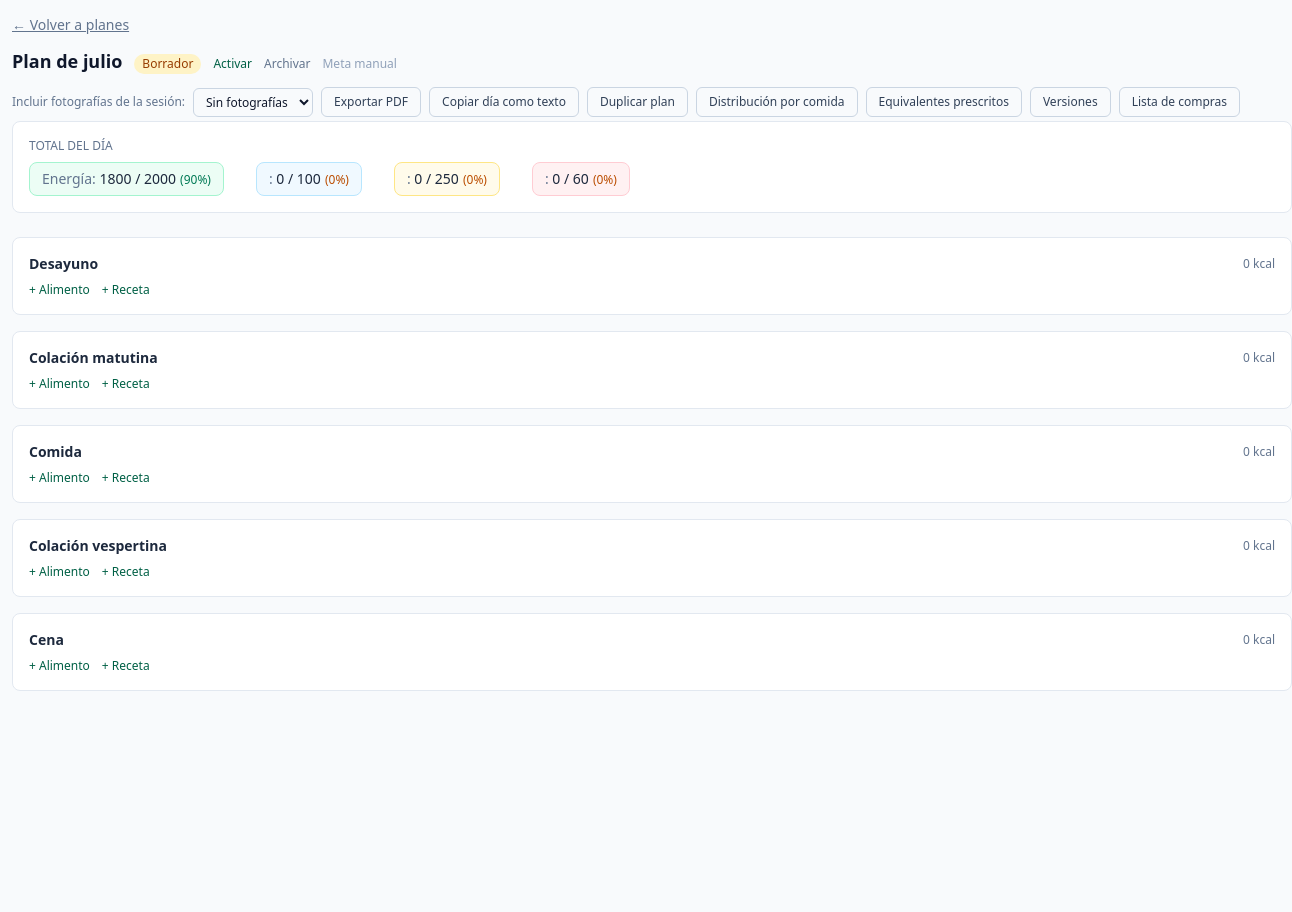
PlanEditor — adding a food › refuses to add until a food and a usable amount are both present
This screenshot has width=1292, height=912.
Click the button "+ Alimento" below "Desayuno": (59, 290) 29,282 -> 90,298
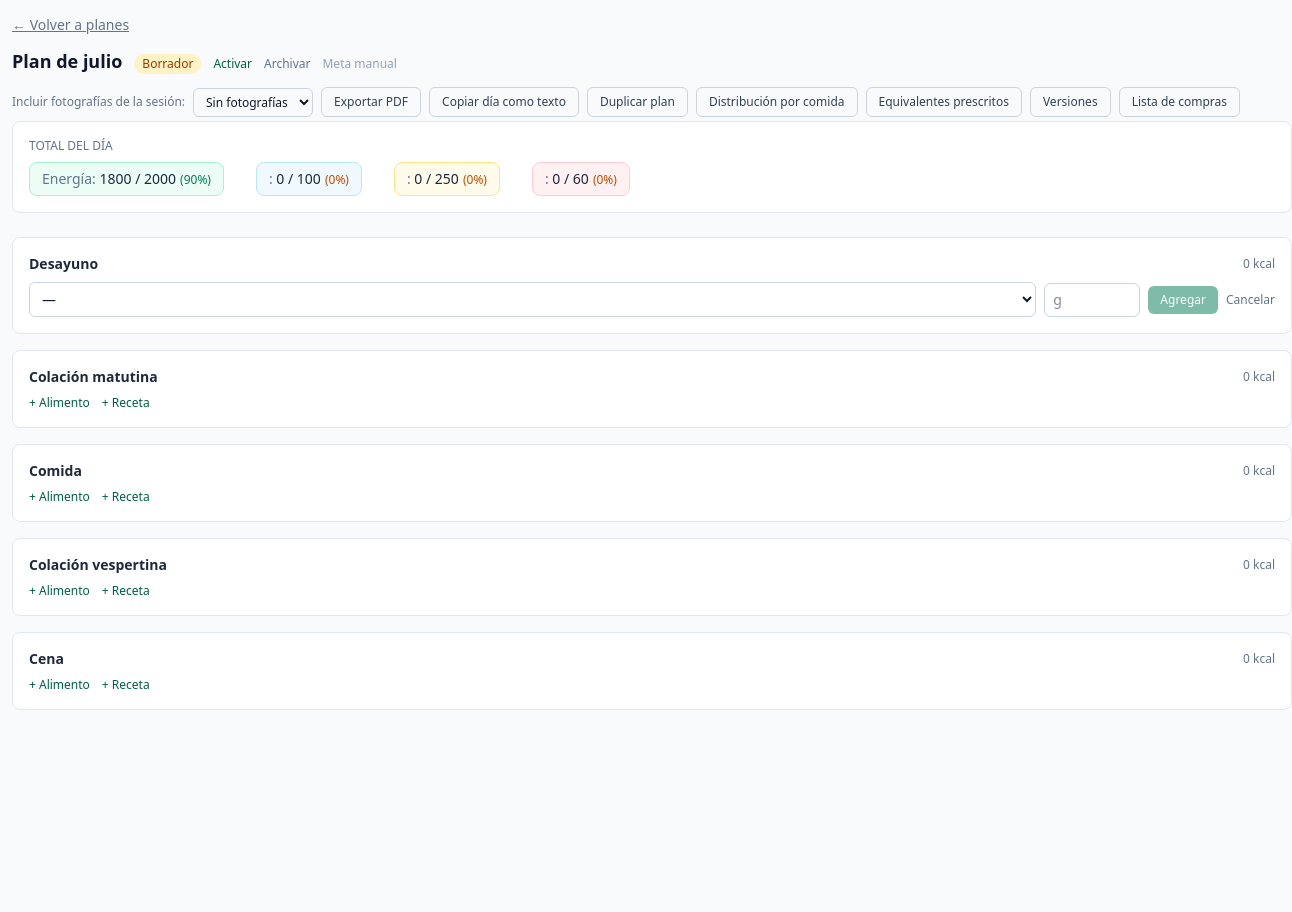
Check: the button "Agregar" is disabled, box 1148,286 -> 1218,314
Select "Tortilla de maíz" in the dropdown named "Alimentos": (533, 300) 29,282 -> 1036,317
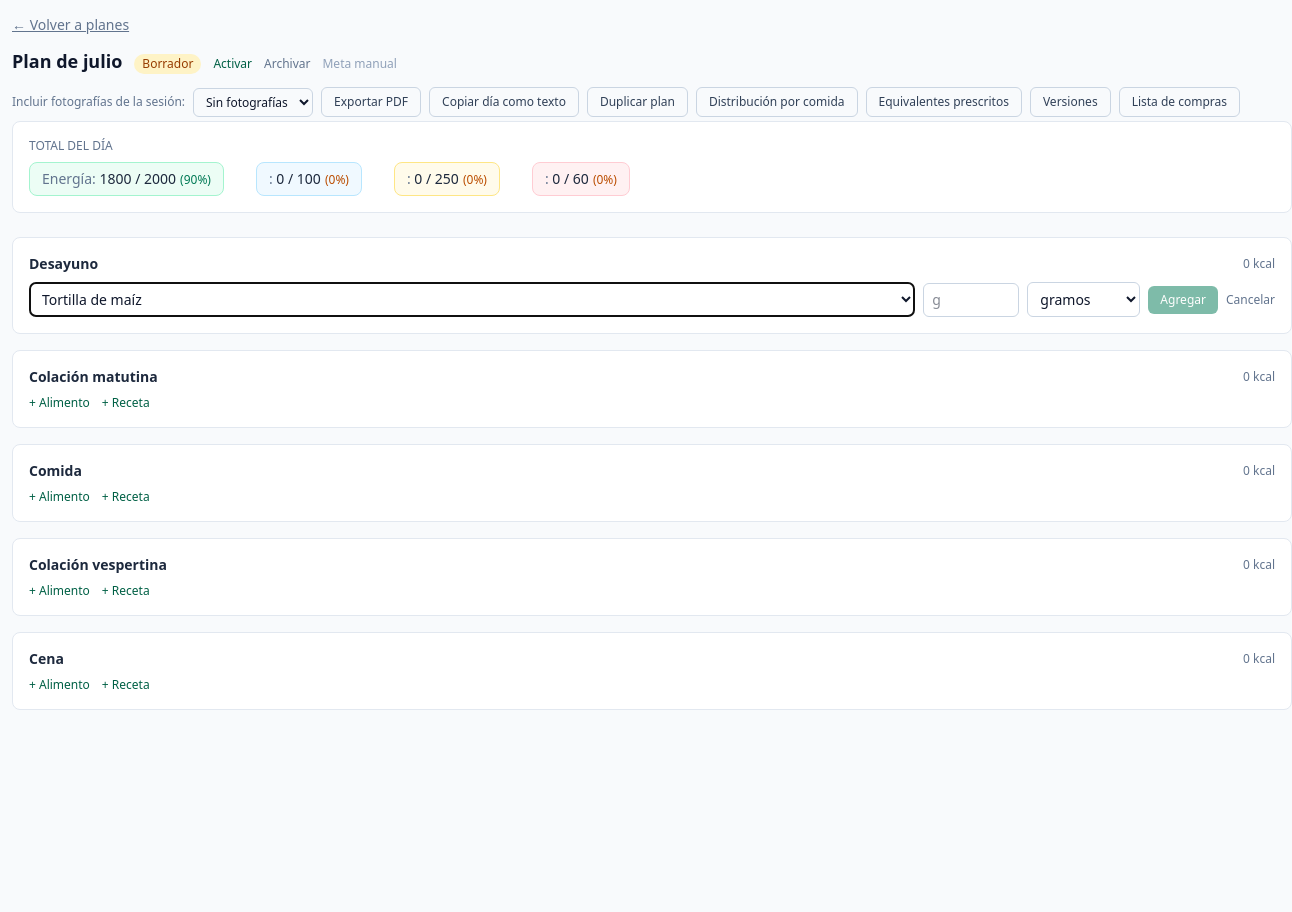
Check: the button "Agregar" is disabled, box 1148,286 -> 1218,314
In the field labelled "g": (971, 300) 923,282 -> 1019,316, type "mucho"
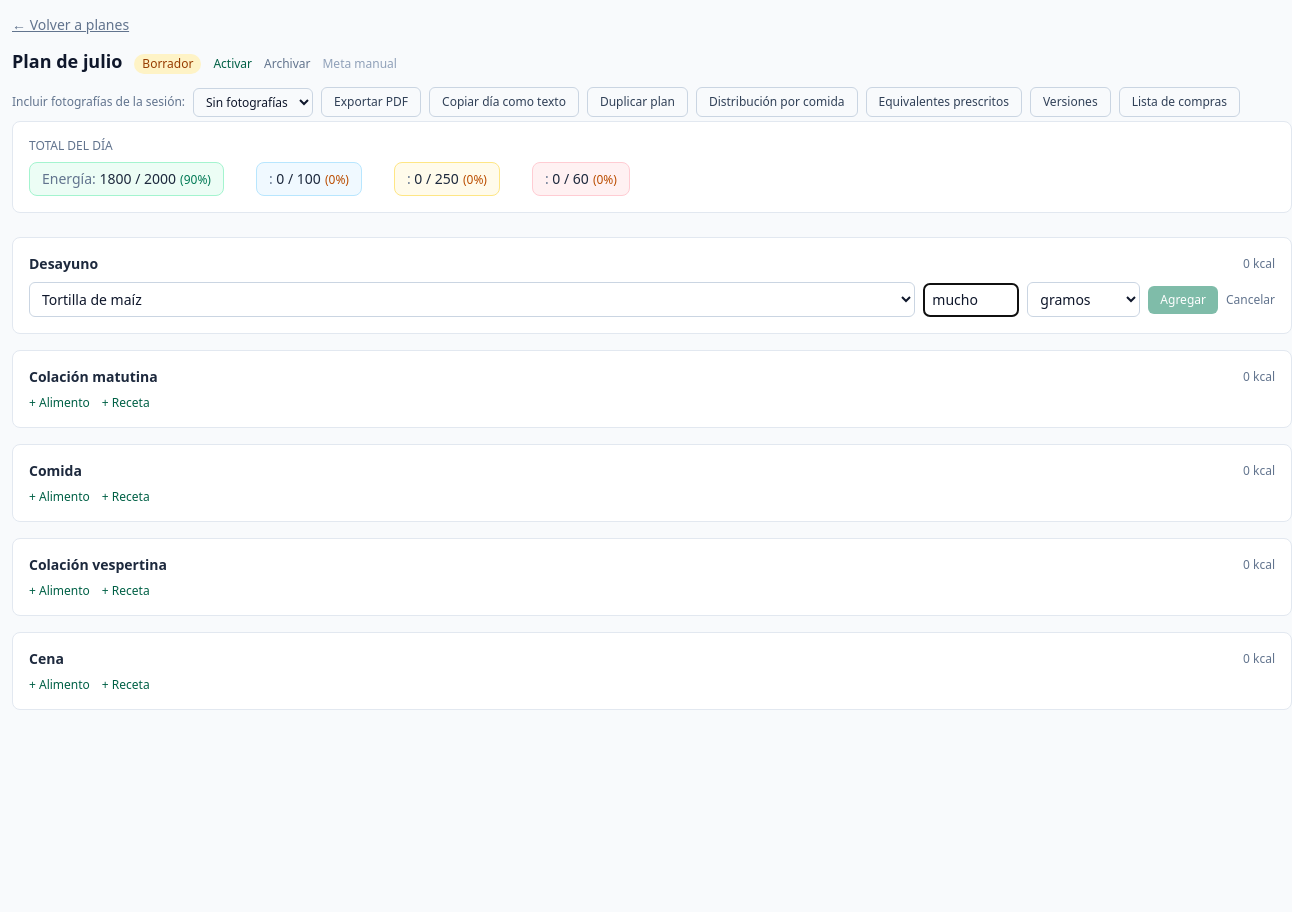
Check: the button "Agregar" is disabled, box 1148,286 -> 1218,314
Replace the text in the field named "g" with "60": (971, 300) 923,282 -> 1019,316
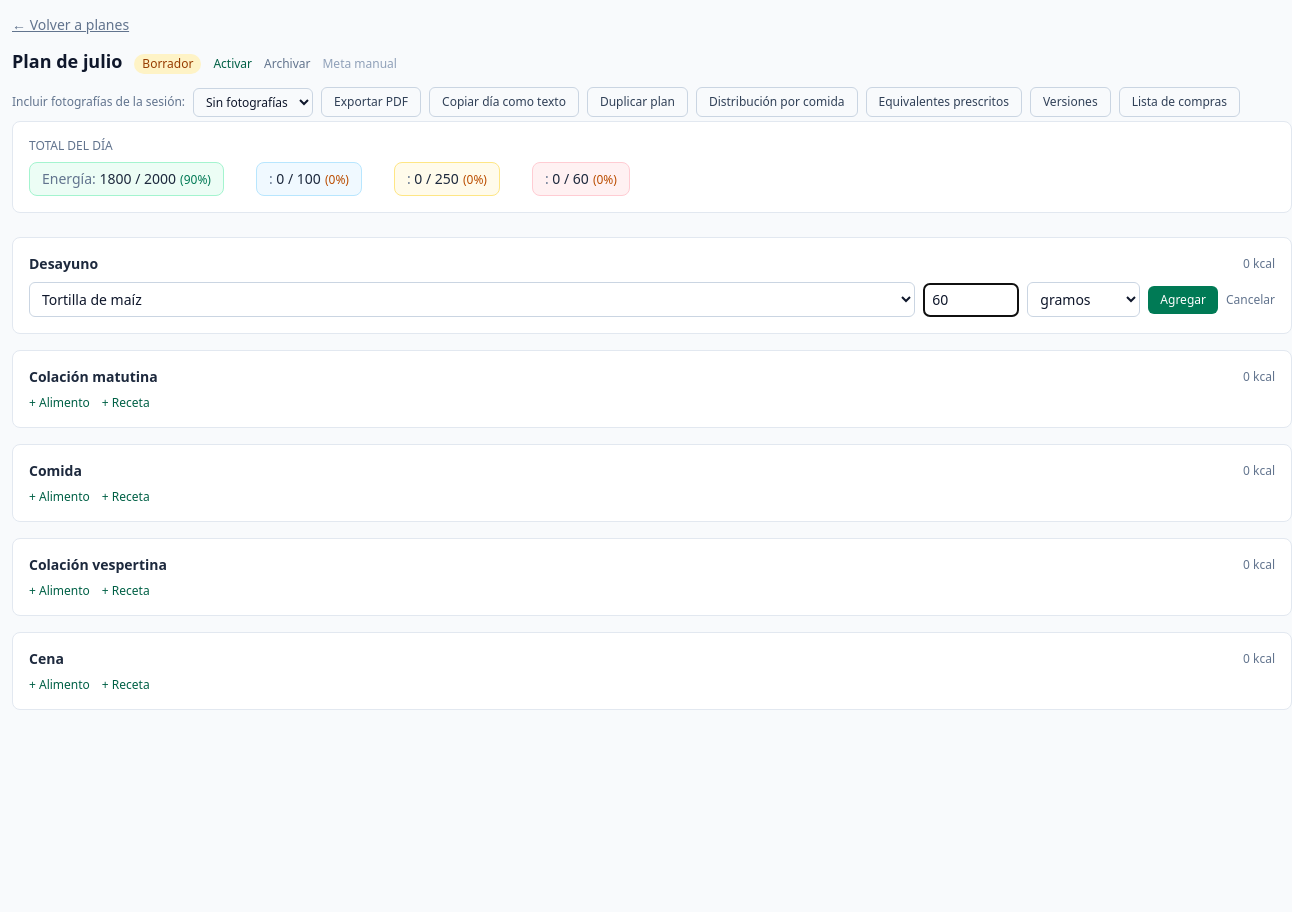
Check: the button "Agregar" is enabled, box 1148,286 -> 1218,314
